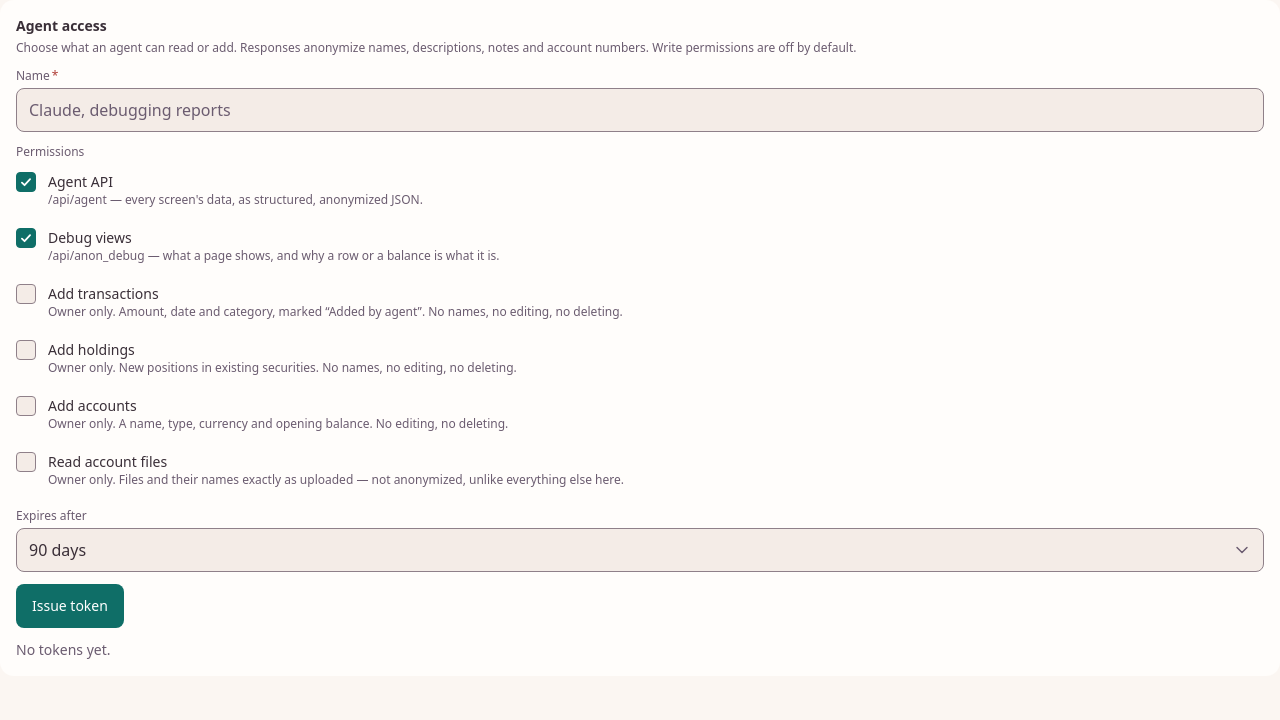
AgentAccess › shows the server's refusal
Type "x" into the field with test id "agent-token-name" at (640, 110), box [16,88,1264,132]
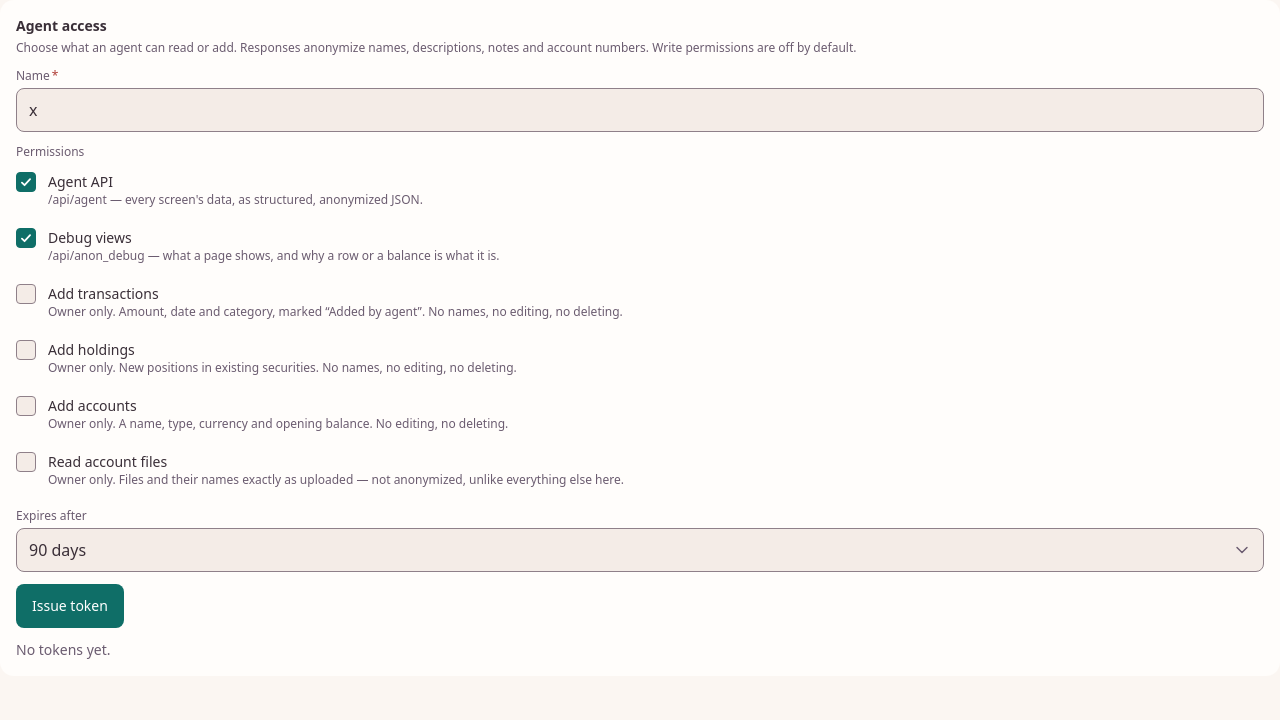
Click the button "Issue token" at (70, 606), box [16,584,124,628]
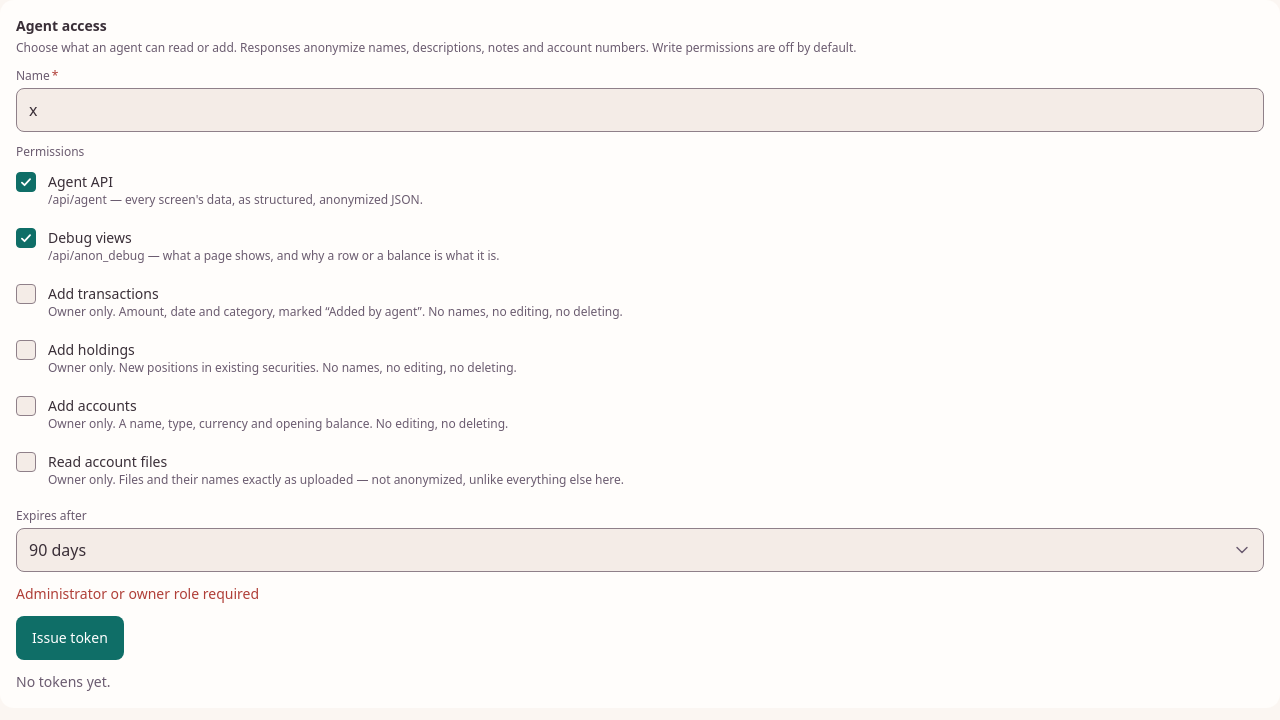
expect the message with test id "agent-token-error" shows "owner role required": met, box [16,584,259,603]
